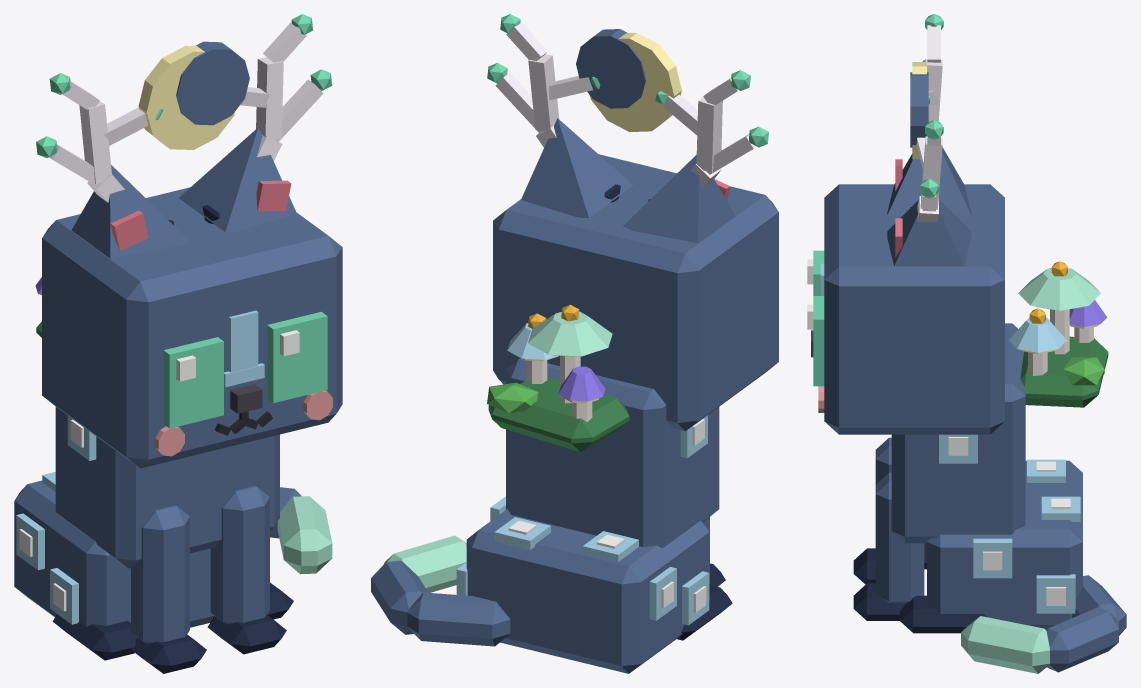
Rendered from CleanACat_Cat_Moonstag_Sit.fbx.
The picture shows the model from 3 angles, left to right: view 1: azimuth 30°, elevation 25°; view 2: azimuth 150°, elevation 25°; view 3: azimuth 270°, elevation 25°; orthographic projection. The views are drawn at different scales.
Visible parts, largest first — view 1: CleanACat_Cat_Moonstag_Sit_Head, CleanACat_Cat_Moonstag_Sit_Body, CleanACat_Cat_Moonstag_Sit_Prop, CleanACat_Cat_Moonstag_Sit_LegF1, CleanACat_Cat_Moonstag_Sit_LegF2, CleanACat_Cat_Moonstag_Sit_EarL, CleanACat_Cat_Moonstag_Sit_EarR, CleanACat_Cat_Moonstag_Sit_Eye1, CleanACat_Cat_Moonstag_Sit_Eye2, CleanACat_Cat_Moonstag_Sit_Tail, CleanACat_Cat_Moonstag_Sit_Glow; view 2: CleanACat_Cat_Moonstag_Sit_Body, CleanACat_Cat_Moonstag_Sit_Head, CleanACat_Cat_Moonstag_Sit_Prop, CleanACat_Cat_Moonstag_Sit_Prop2, CleanACat_Cat_Moonstag_Sit_Tail, CleanACat_Cat_Moonstag_Sit_EarL, CleanACat_Cat_Moonstag_Sit_EarR, CleanACat_Cat_Moonstag_Sit_Glow; view 3: CleanACat_Cat_Moonstag_Sit_Head, CleanACat_Cat_Moonstag_Sit_Body, CleanACat_Cat_Moonstag_Sit_Prop2, CleanACat_Cat_Moonstag_Sit_Tail, CleanACat_Cat_Moonstag_Sit_LegF1, CleanACat_Cat_Moonstag_Sit_Prop, CleanACat_Cat_Moonstag_Sit_EarL, CleanACat_Cat_Moonstag_Sit_EarR, CleanACat_Cat_Moonstag_Sit_LegF2, CleanACat_Cat_Moonstag_Sit_Eye1, CleanACat_Cat_Moonstag_Sit_Glow, CleanACat_Cat_Moonstag_Sit_Eye2.
Part boxes in pixels (bbox=[...]): CleanACat_Cat_Moonstag_Sit_Head: bbox=[42, 187, 342, 468]; CleanACat_Cat_Moonstag_Sit_Body: bbox=[14, 407, 293, 660]; CleanACat_Cat_Moonstag_Sit_Prop: bbox=[49, 22, 323, 224]; CleanACat_Cat_Moonstag_Sit_LegF1: bbox=[207, 485, 286, 654]; CleanACat_Cat_Moonstag_Sit_LegF2: bbox=[131, 505, 206, 673]; CleanACat_Cat_Moonstag_Sit_EarL: bbox=[179, 127, 296, 232]; CleanACat_Cat_Moonstag_Sit_EarR: bbox=[71, 165, 189, 258]; CleanACat_Cat_Moonstag_Sit_Eye1: bbox=[267, 311, 327, 403]; CleanACat_Cat_Moonstag_Sit_Eye2: bbox=[163, 337, 223, 428]; CleanACat_Cat_Moonstag_Sit_Tail: bbox=[270, 487, 332, 574]; CleanACat_Cat_Moonstag_Sit_Glow: bbox=[36, 14, 332, 158]; CleanACat_Cat_Moonstag_Sit_Body: bbox=[456, 358, 732, 673]; CleanACat_Cat_Moonstag_Sit_Head: bbox=[493, 154, 778, 431]; CleanACat_Cat_Moonstag_Sit_Prop: bbox=[495, 22, 756, 202]; CleanACat_Cat_Moonstag_Sit_Prop2: bbox=[487, 311, 629, 452]; CleanACat_Cat_Moonstag_Sit_Tail: bbox=[371, 535, 510, 646]; CleanACat_Cat_Moonstag_Sit_EarL: bbox=[521, 118, 633, 217]; CleanACat_Cat_Moonstag_Sit_EarR: bbox=[623, 155, 734, 243]; CleanACat_Cat_Moonstag_Sit_Glow: bbox=[487, 14, 768, 147]; CleanACat_Cat_Moonstag_Sit_Head: bbox=[811, 184, 1004, 434]; CleanACat_Cat_Moonstag_Sit_Body: bbox=[891, 323, 1082, 633]; CleanACat_Cat_Moonstag_Sit_Prop2: bbox=[1009, 268, 1108, 407]; CleanACat_Cat_Moonstag_Sit_Tail: bbox=[961, 575, 1126, 673]; CleanACat_Cat_Moonstag_Sit_LegF1: bbox=[853, 472, 924, 620]; CleanACat_Cat_Moonstag_Sit_Prop: bbox=[910, 25, 942, 222]; CleanACat_Cat_Moonstag_Sit_EarL: bbox=[887, 199, 971, 266]; CleanACat_Cat_Moonstag_Sit_EarR: bbox=[887, 147, 971, 215]; CleanACat_Cat_Moonstag_Sit_LegF2: bbox=[853, 437, 891, 584]; CleanACat_Cat_Moonstag_Sit_Eye1: bbox=[807, 296, 824, 386]; CleanACat_Cat_Moonstag_Sit_Glow: bbox=[920, 14, 943, 198]; CleanACat_Cat_Moonstag_Sit_Eye2: bbox=[807, 250, 824, 295].
Size of the model in its own units: 1.4 by 2.28 by 1.24.
1 material, 1 textured.
